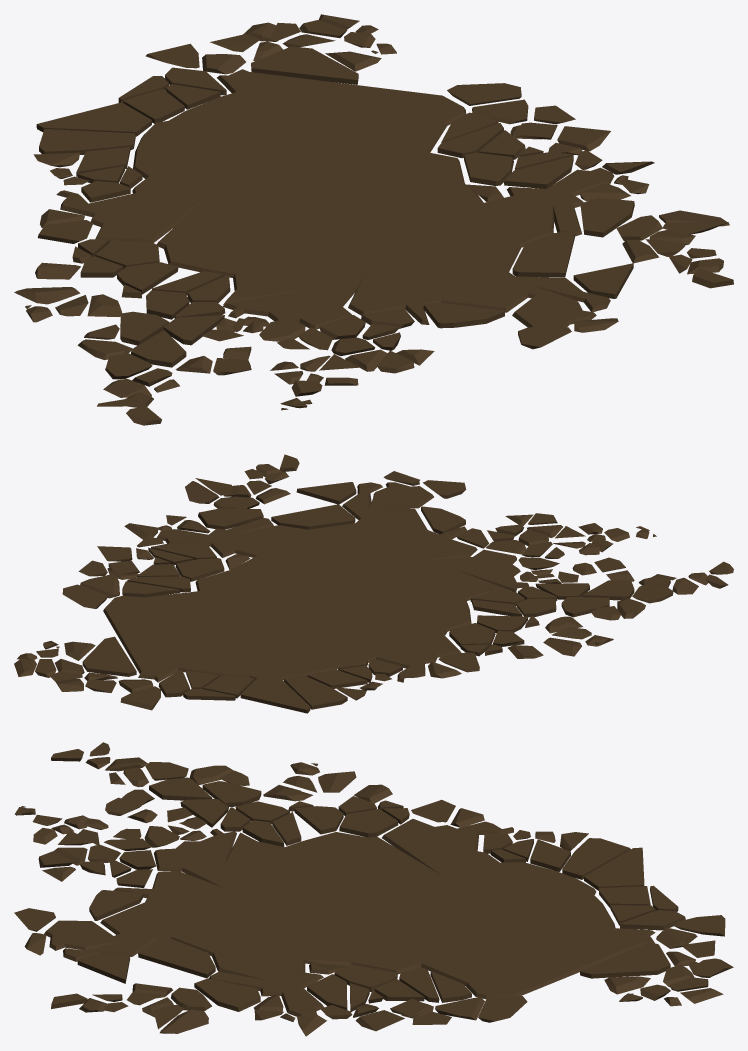
File: Concreto.obj
3 views of the same model, one above another, from view 1: azimuth 30°, elevation 25°; view 2: azimuth 150°, elevation 25°; view 3: azimuth 270°, elevation 25° (orthographic). The views are drawn at different scales.
Parts seen in each view (by area): view 1: Tarmac_Mesh.004; view 2: Tarmac_Mesh.004; view 3: Tarmac_Mesh.004.
Boxes of the visible parts, left/top/right/bottom form: Tarmac_Mesh.004: left=14, top=14, right=733, bottom=425; Tarmac_Mesh.004: left=14, top=454, right=733, bottom=713; Tarmac_Mesh.004: left=14, top=742, right=733, bottom=1036.
Bounding box in the file's own units: 6.08 × 0.0419 × 6.36.
